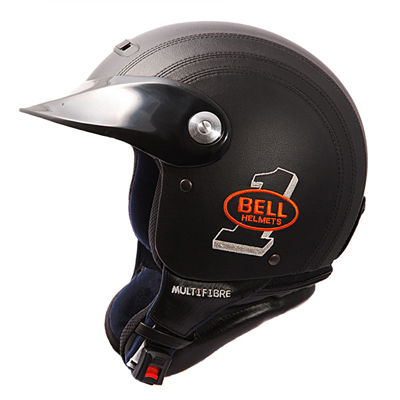helmet: (75, 39, 368, 351)
